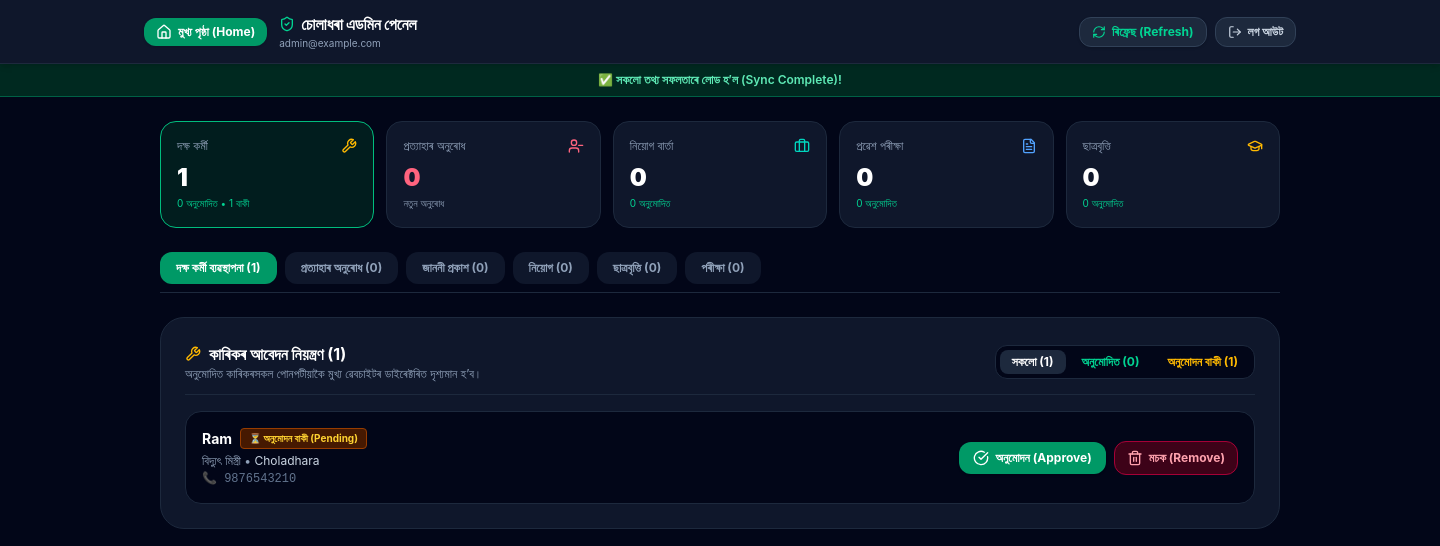
Test case: Admin › keeps the success message visible after an action
Expected: the text "✅ সকলো তথ্য সফলতাৰে লোড হ’ল (Sync Complete)!" is shown, [0,64,1439,97]
What coordinates should you click on to do the following:
click the button "অনুমোদন (Approve)"
I would click on:
 (1033, 458)
Its box is [959,442,1106,474].
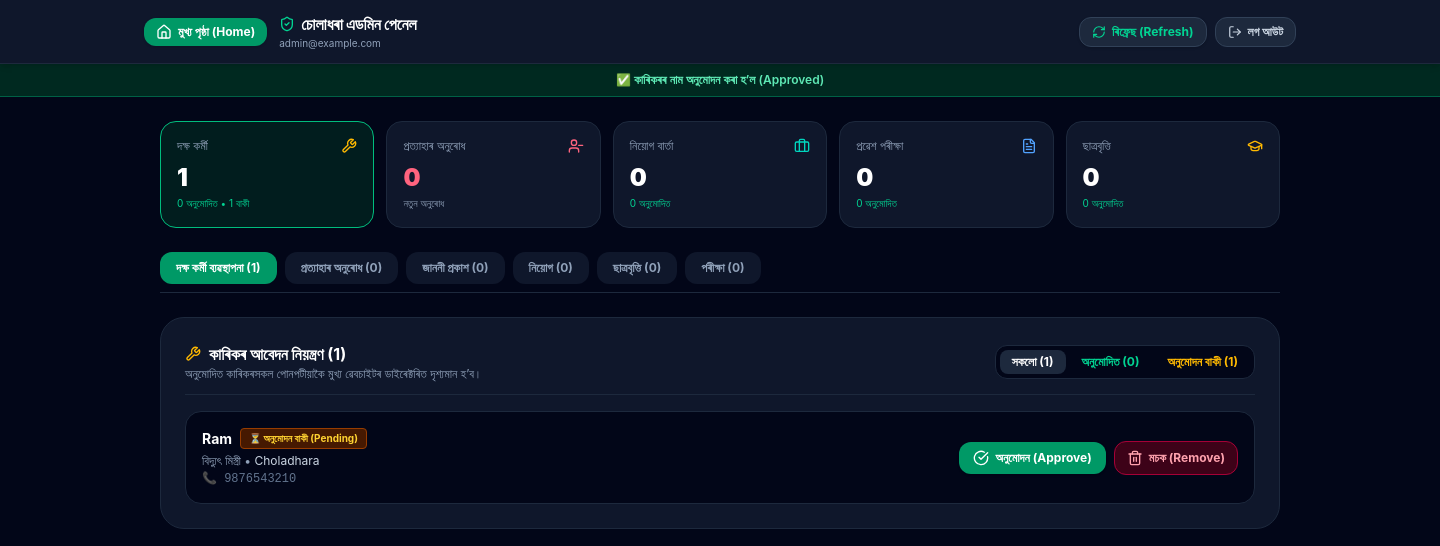
Expected: the text "✅ কাৰিকৰৰ নাম অনুমোদন কৰা হ’ল (Approved)" is shown, [0,64,1439,97]
